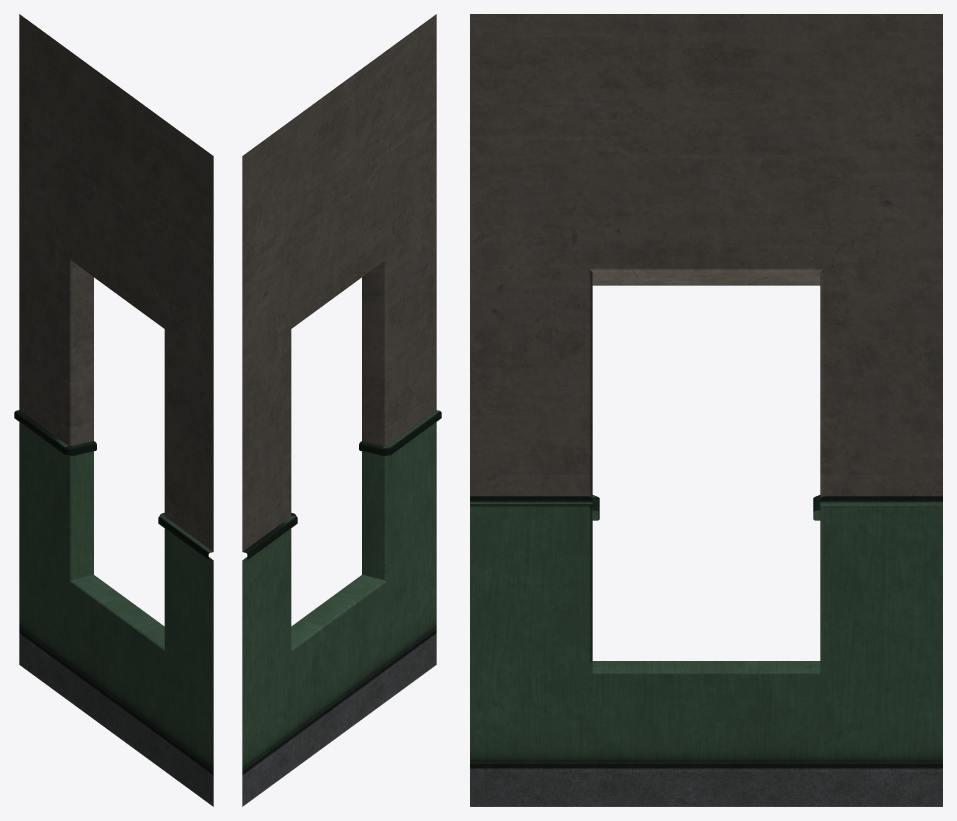
The model's file is Psychiatric_Ward_Infirmary_Wall_2m_Window_B_Bare.glb.
3 views of the same model, side by side, from view 1: azimuth 30°, elevation 25°; view 2: azimuth 150°, elevation 25°; view 3: azimuth 270°, elevation 25° (orthographic). The views are drawn at different scales.
Parts seen in each view (by area): view 1: Psychiatric_Ward_Infirmary_Wall_2m_Window_B_Bare; view 2: Psychiatric_Ward_Infirmary_Wall_2m_Window_B_Bare; view 3: Psychiatric_Ward_Infirmary_Wall_2m_Window_B_Bare.
Boxes of the visible parts, x1,y1,x2,y2 form: Psychiatric_Ward_Infirmary_Wall_2m_Window_B_Bare: (14,14,213,806); Psychiatric_Ward_Infirmary_Wall_2m_Window_B_Bare: (242,14,441,806); Psychiatric_Ward_Infirmary_Wall_2m_Window_B_Bare: (470,14,942,806).
Size of the model in its own units: 0.1737 by 3.7 by 2.
Materials: 2 (2 with a texture image).
